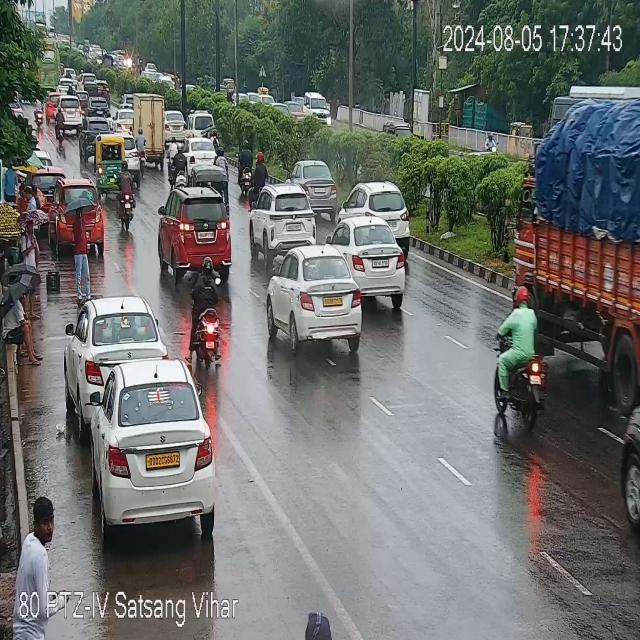2-wheelers: (487, 288, 547, 421), (192, 259, 221, 363), (117, 168, 138, 220), (252, 152, 272, 206), (136, 128, 148, 169), (35, 98, 44, 128)
auto: (92, 132, 126, 178)
bus: (32, 44, 60, 88)
car: (521, 93, 640, 405), (90, 362, 216, 532), (263, 244, 365, 358), (68, 296, 164, 402), (331, 219, 416, 311), (156, 186, 234, 283), (348, 183, 412, 253), (254, 183, 318, 241), (54, 178, 100, 254), (294, 162, 336, 214), (302, 90, 334, 128), (80, 116, 112, 154), (182, 137, 218, 163), (60, 95, 84, 129), (191, 112, 217, 140), (166, 110, 183, 142), (24, 183, 36, 222), (84, 98, 110, 114), (6, 157, 16, 198), (18, 183, 26, 212)
pedestrian: (12, 492, 59, 580), (0, 274, 44, 368), (70, 204, 92, 298), (22, 219, 40, 271)
truck: (134, 95, 166, 167)
